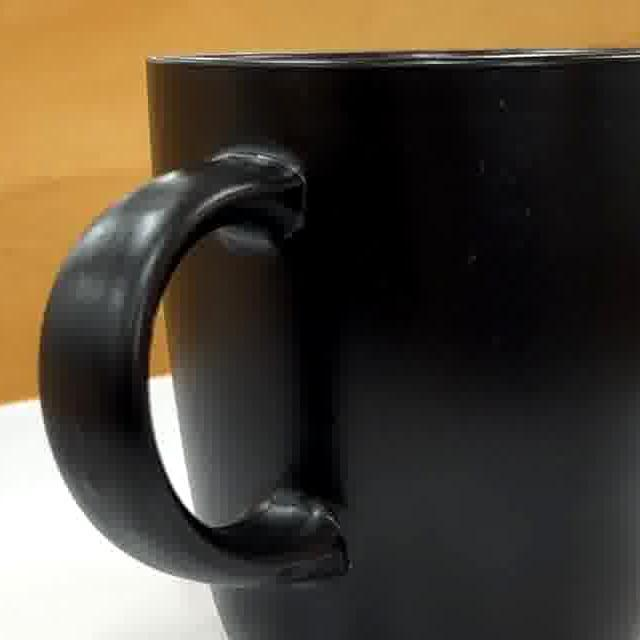cup: (40, 53, 640, 640)
